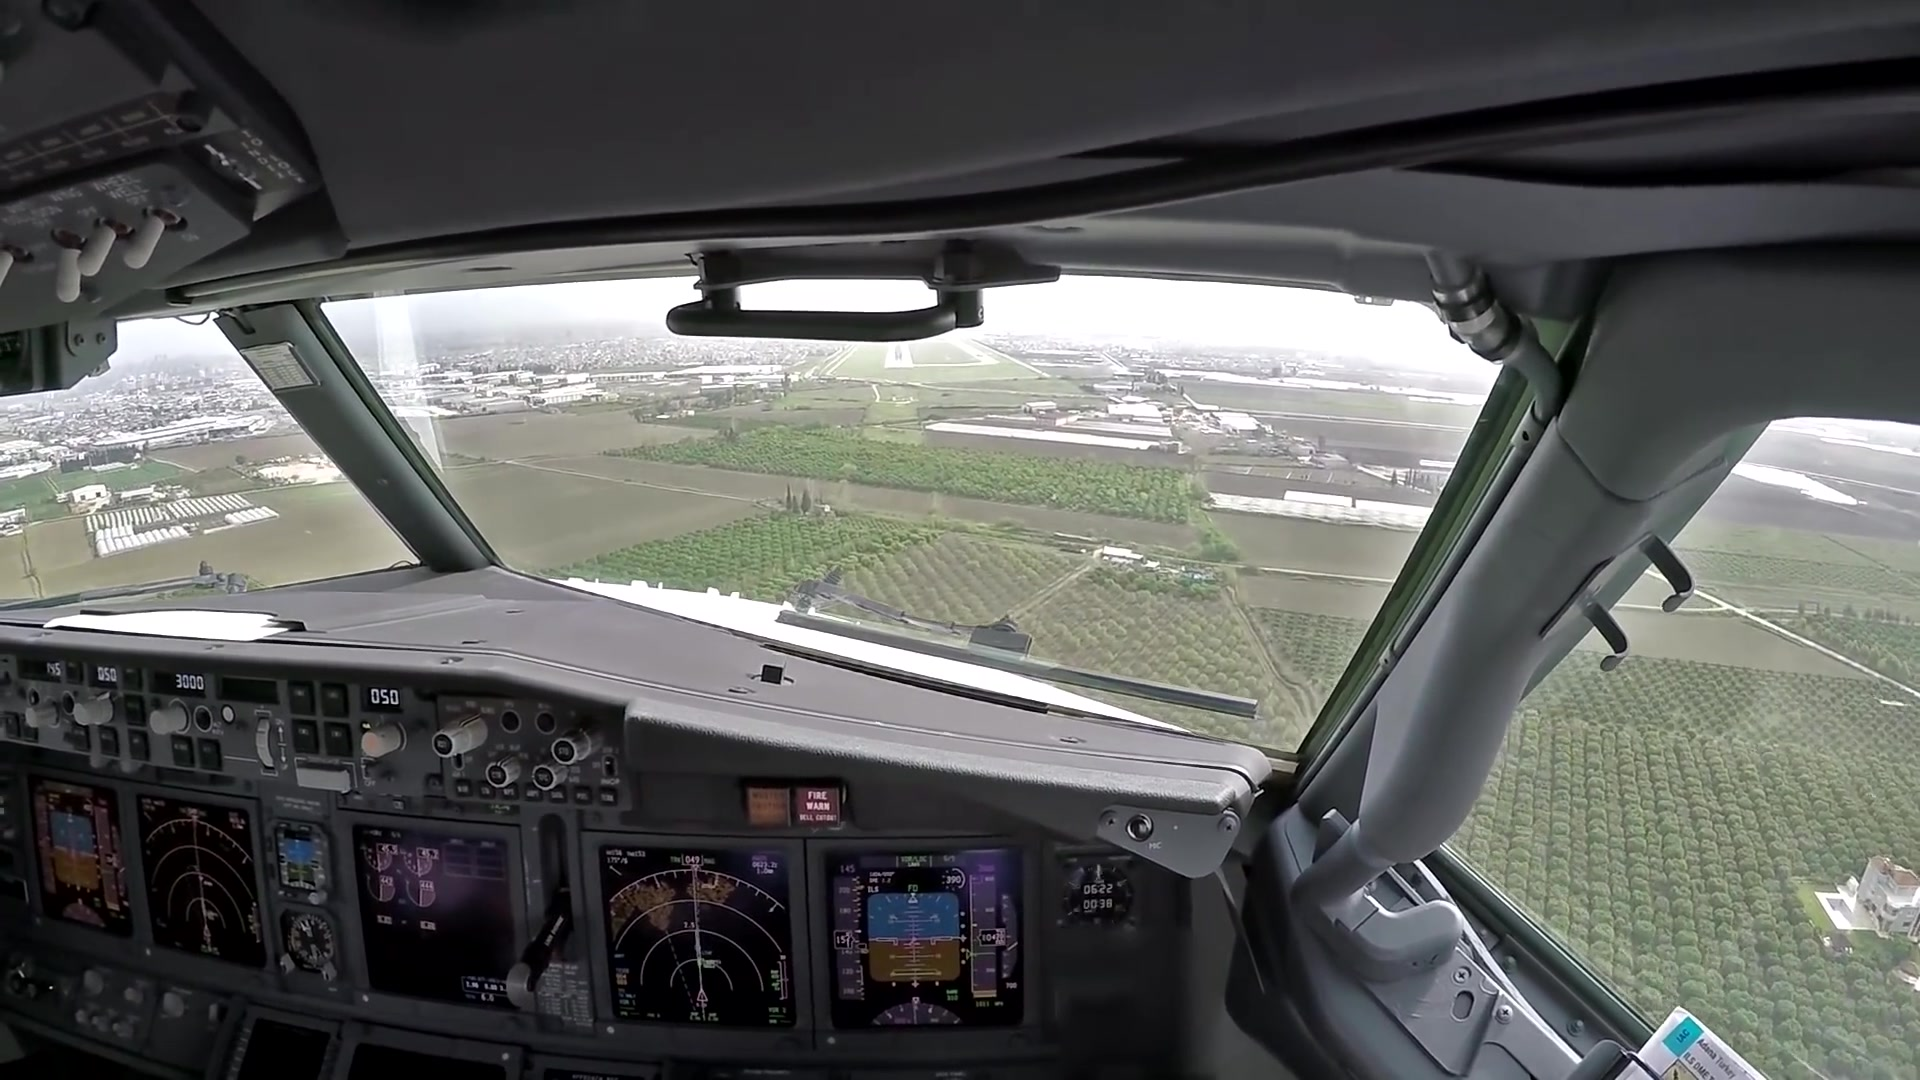runway: (882, 342, 914, 369)
